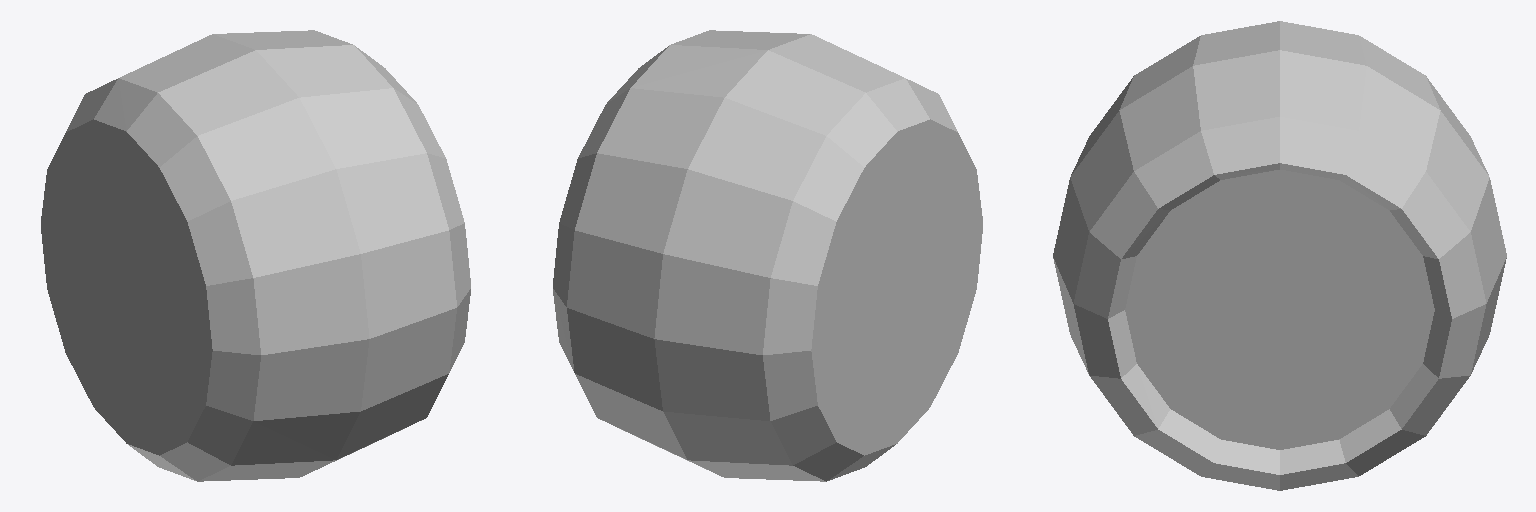
File: wheel.obj
3 views of the same model, side by side, from view 1: azimuth 30°, elevation 25°; view 2: azimuth 150°, elevation 25°; view 3: azimuth 270°, elevation 25° (orthographic).
Parts seen in each view (by area): view 1: frw; view 2: frw; view 3: frw.
Boxes of the visible parts, box(x1,y1,x2,y2) form: frw: box(41, 30, 470, 481); frw: box(553, 30, 982, 481); frw: box(1053, 21, 1506, 490).
Size of the model in its own units: 0.2198 by 0.3342 by 0.3342.